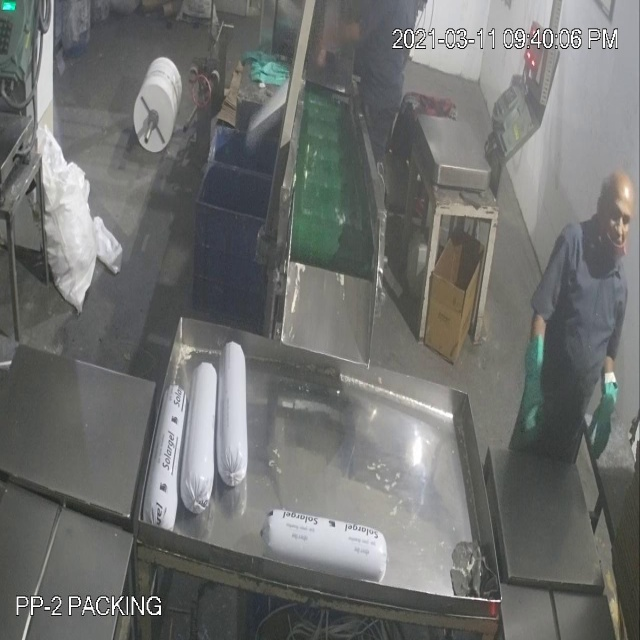Guantes: (518, 318, 554, 460)
